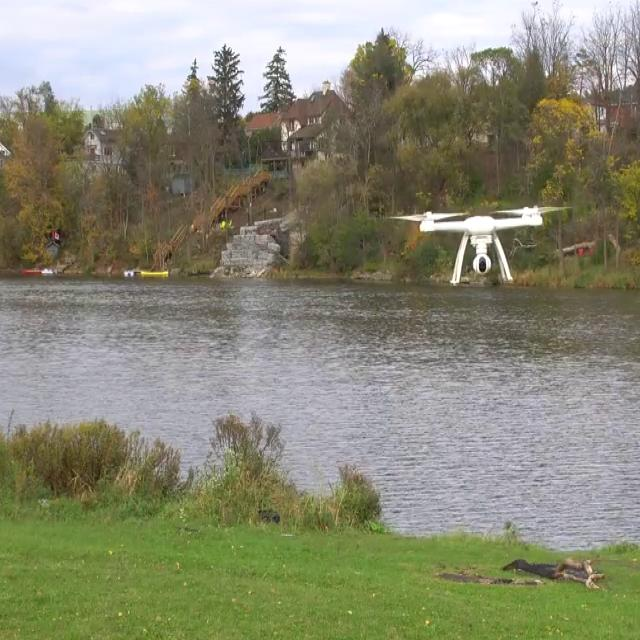drone: (396, 189, 568, 269)
